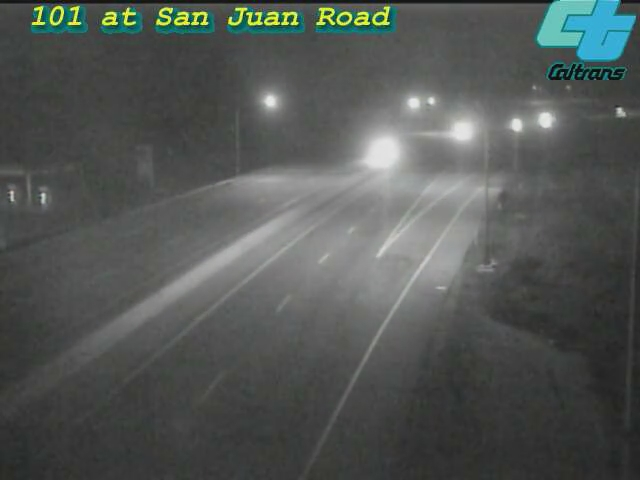vehicle: (359, 124, 409, 174), (439, 106, 489, 156), (490, 101, 540, 151), (521, 95, 571, 145), (598, 88, 640, 138)
